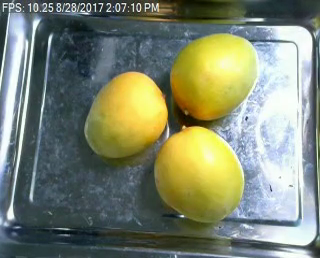Mango: (155, 124, 245, 224), (168, 31, 259, 120), (82, 68, 168, 160)
